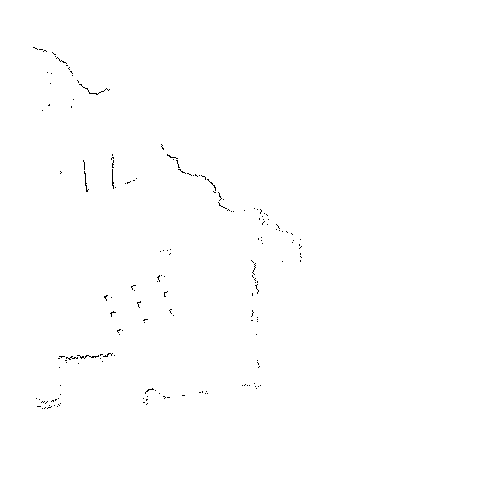pallet: (103, 274, 175, 335)
